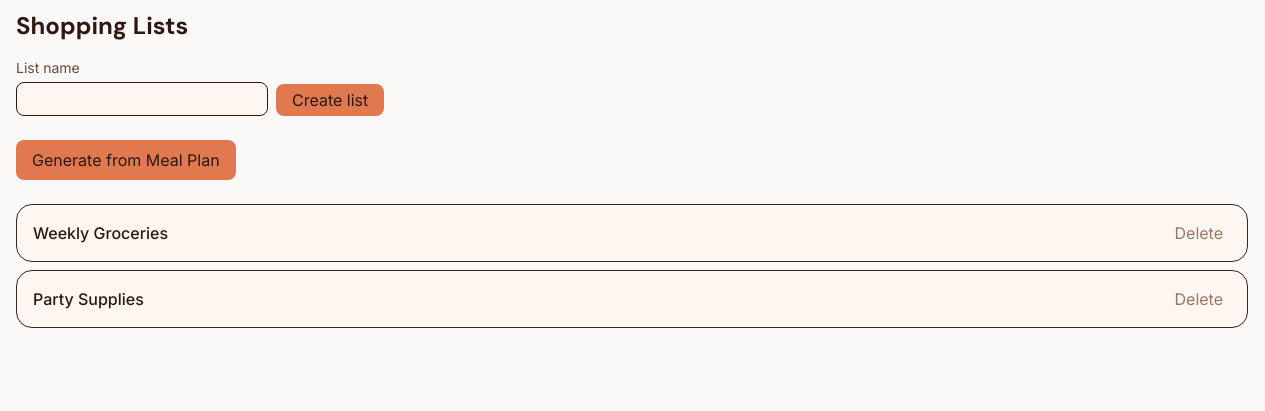
it: ShoppingListPage › Create List › should create a new list via form and show it
Expected: the button "Weekly Groceries" is shown, [33, 221, 168, 245]
# Fill in the create list form
In the field labelled "List name": point(142, 99) [16, 82, 268, 116], type "Birthday Party"
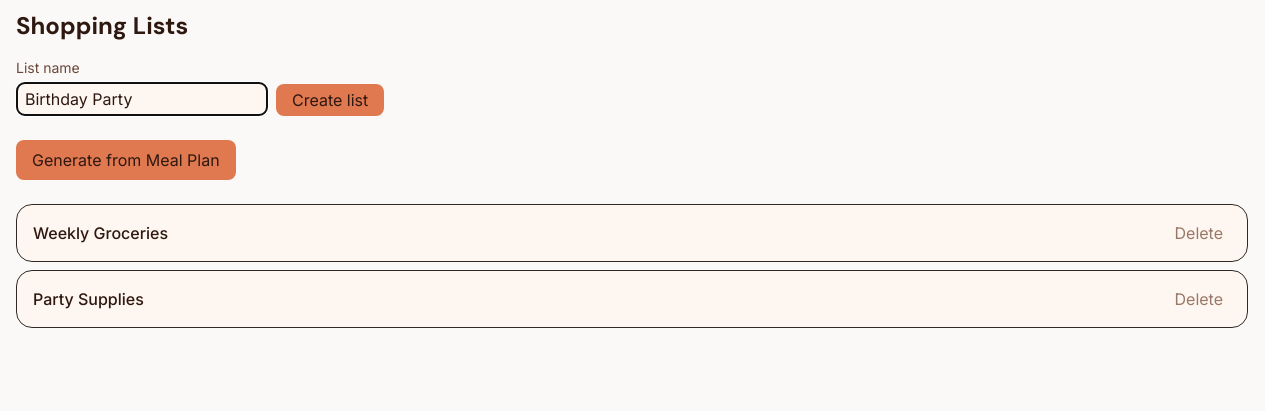
Click the button "Create list": point(330, 100) [276, 84, 384, 116]
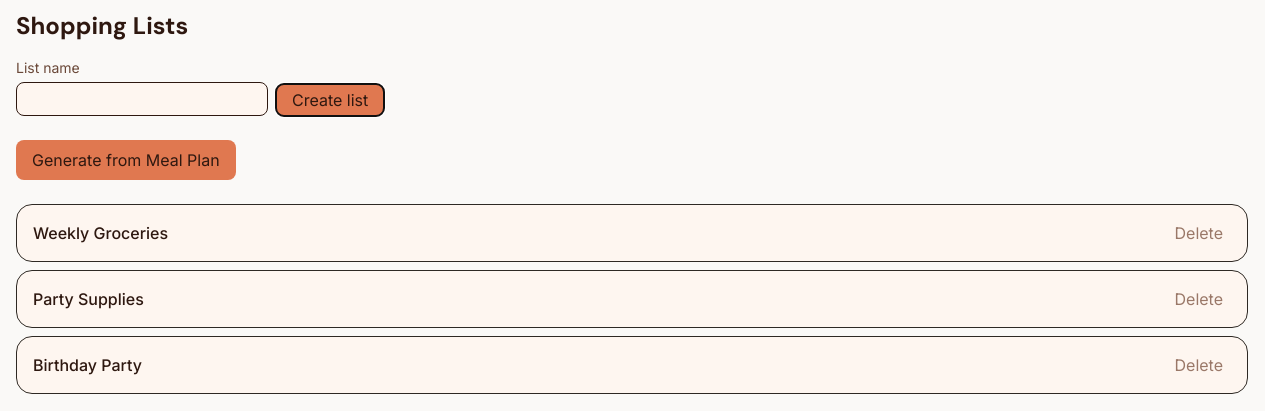
Result: the button "Birthday Party" is shown at [33, 353, 142, 377]
